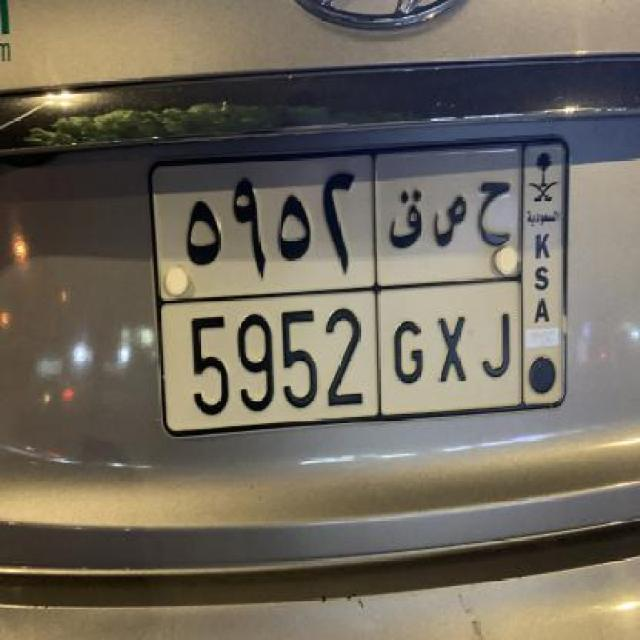license_plate: (145, 130, 573, 442)
